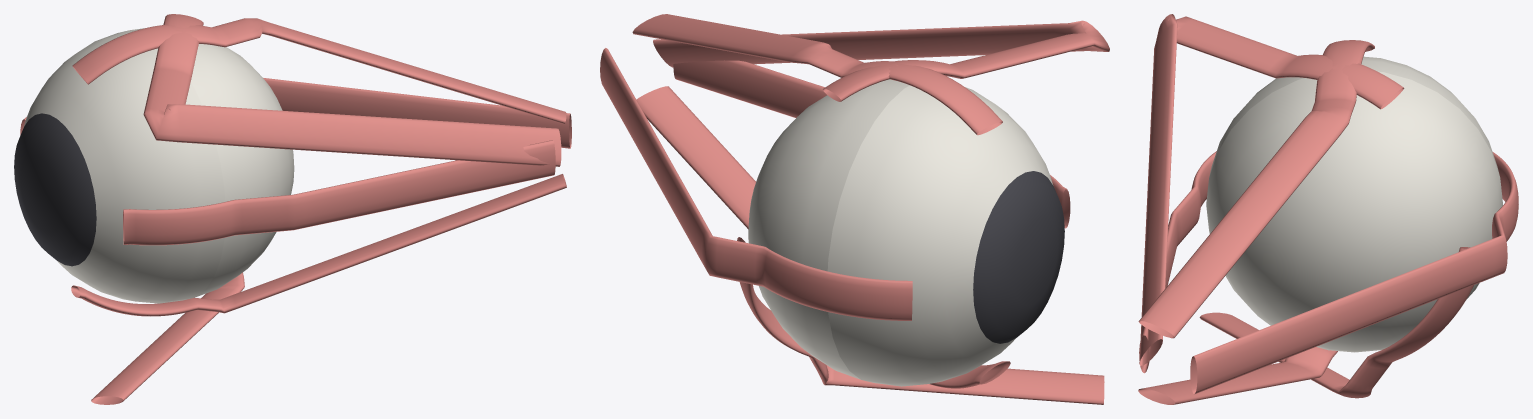
File: upat-oculomotor.glb
3 renders of one model, left to right at view 1: azimuth 30°, elevation 25°; view 2: azimuth 150°, elevation 25°; view 3: azimuth 270°, elevation 25°, orthographic. The views are drawn at different scales.
Visible parts, largest first — view 1: globe, superior_oblique, medial_rectus, pupil, superior_rectus, inferior_rectus, lateral_rectus, inferior_oblique; view 2: globe, lateral_rectus, superior_oblique, pupil, superior_rectus, inferior_rectus, inferior_oblique, medial_rectus; view 3: globe, lateral_rectus, superior_rectus, superior_oblique, inferior_oblique, inferior_rectus, medial_rectus.
Boxes of the visible parts, bbox=[...] form: globe: bbox=[23, 28, 294, 303]; superior_oblique: bbox=[143, 14, 561, 166]; medial_rectus: bbox=[123, 140, 555, 245]; pupil: bbox=[14, 113, 96, 266]; superior_rectus: bbox=[72, 18, 566, 123]; inferior_rectus: bbox=[71, 174, 566, 316]; lateral_rectus: bbox=[20, 78, 571, 148]; inferior_oblique: bbox=[91, 272, 244, 404]; globe: bbox=[748, 79, 1053, 386]; lateral_rectus: bbox=[600, 48, 912, 320]; superior_oblique: bbox=[653, 20, 1109, 101]; pupil: bbox=[973, 171, 1064, 343]; superior_rectus: bbox=[632, 14, 1002, 135]; inferior_rectus: bbox=[636, 86, 1010, 388]; inferior_oblique: bbox=[737, 237, 1104, 404]; medial_rectus: bbox=[673, 60, 1070, 228]; globe: bbox=[1206, 56, 1502, 352]; lateral_rectus: bbox=[1190, 152, 1518, 394]; superior_rectus: bbox=[1138, 40, 1374, 338]; superior_oblique: bbox=[1139, 14, 1404, 365]; inferior_oblique: bbox=[1199, 247, 1473, 398]; inferior_rectus: bbox=[1138, 347, 1337, 404]; medial_rectus: bbox=[1139, 151, 1216, 373].
Bounding box in the file's own units: 46.42 × 29.53 × 30.77.
